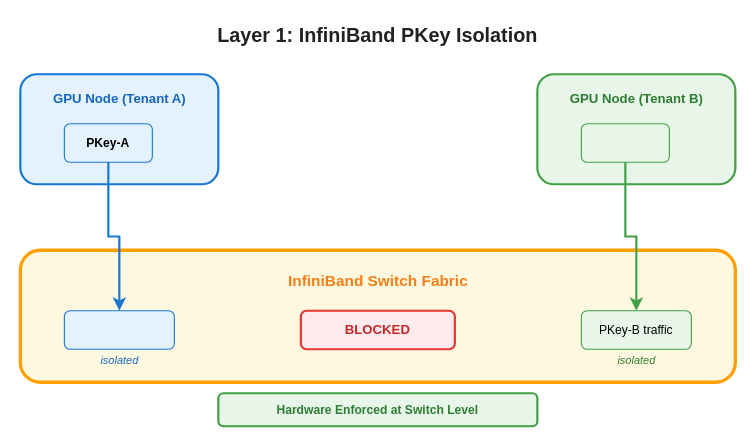
Some shapes in this 756 by 446 pixel diagram are drawn without their labels. Each missing label, with the box of its shape:
PKey-A traffic: (63, 310, 174, 349)
PKey-B: (580, 123, 669, 162)
